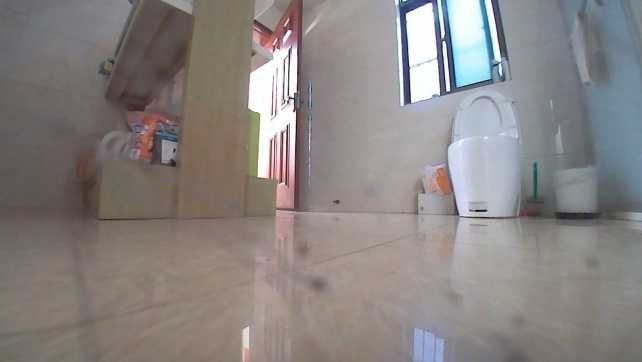toilet: (445, 85, 529, 219)
trash_can: (549, 159, 602, 223)
